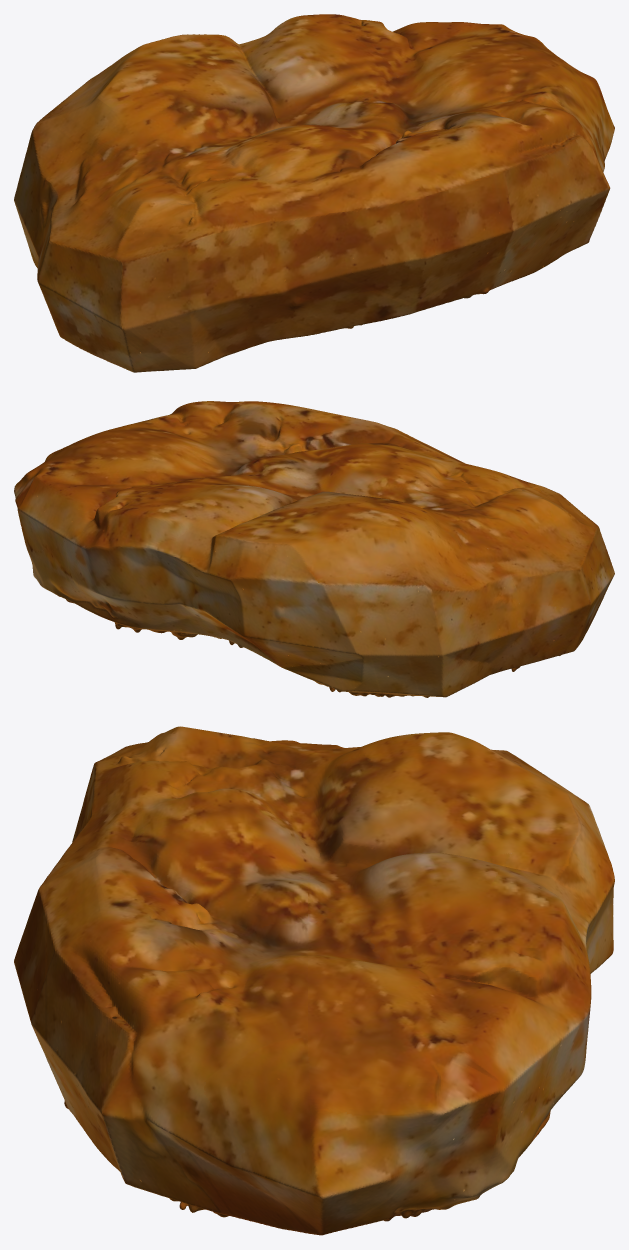
The model's file is nugget.glb.
3 renders of one model, top to bottom at view 1: azimuth 30°, elevation 25°; view 2: azimuth 150°, elevation 25°; view 3: azimuth 270°, elevation 25°, orthographic. The views are drawn at different scales.
Parts seen in each view (by area): view 1: tripo_node_c3c23457-983d-4412-8ac9-7a365f611e76; view 2: tripo_node_c3c23457-983d-4412-8ac9-7a365f611e76; view 3: tripo_node_c3c23457-983d-4412-8ac9-7a365f611e76.
Boxes of the visible parts, left/top/right/bottom form: tripo_node_c3c23457-983d-4412-8ac9-7a365f611e76: left=14, top=14, right=614, bottom=372; tripo_node_c3c23457-983d-4412-8ac9-7a365f611e76: left=14, top=401, right=614, bottom=697; tripo_node_c3c23457-983d-4412-8ac9-7a365f611e76: left=14, top=726, right=614, bottom=1235.
Size of the model in its own units: 1 by 0.3152 by 0.6354.
1 material, 1 textured.
